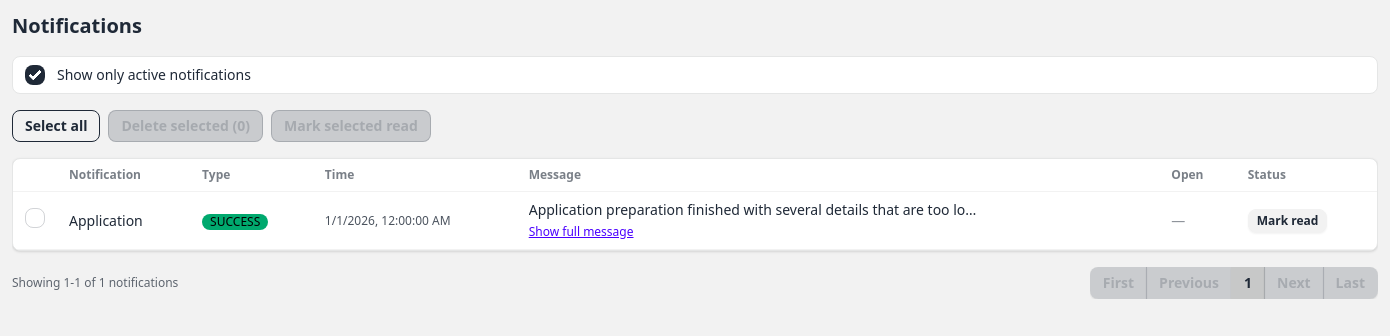
Test: NotificationsPage › expands long notification messages inline
This screenshot has width=1390, height=336.
Check: the text "Application preparation finished with several details that are too long for a compact table cell." is shown, box [529, 200, 1143, 219]
Click the button "Show full message". click: [581, 232]
box: [529, 224, 634, 240]
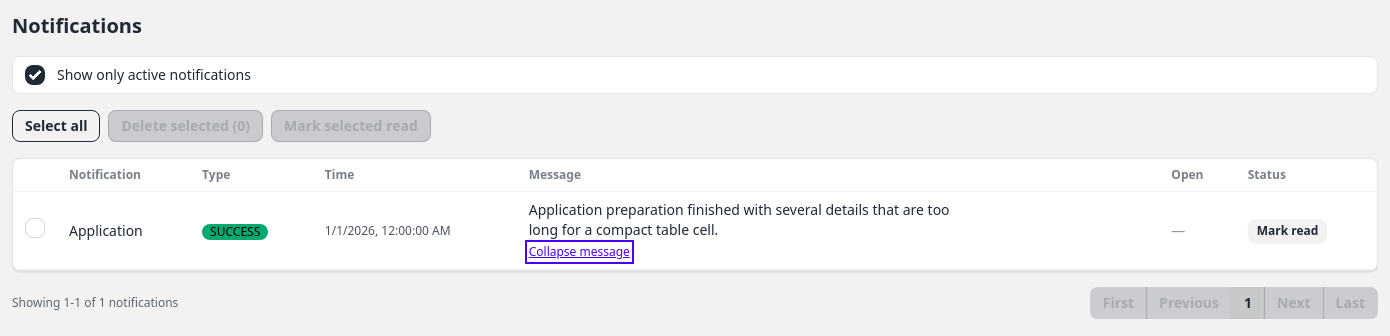
Check: the button "Collapse message" is expanded, box [529, 244, 630, 260]
